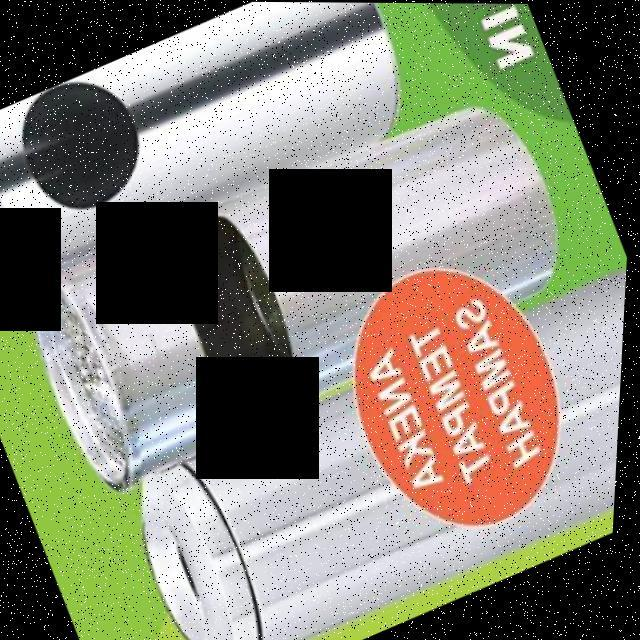bin: (6, 77, 593, 508), (116, 270, 629, 640), (0, 0, 457, 332)
